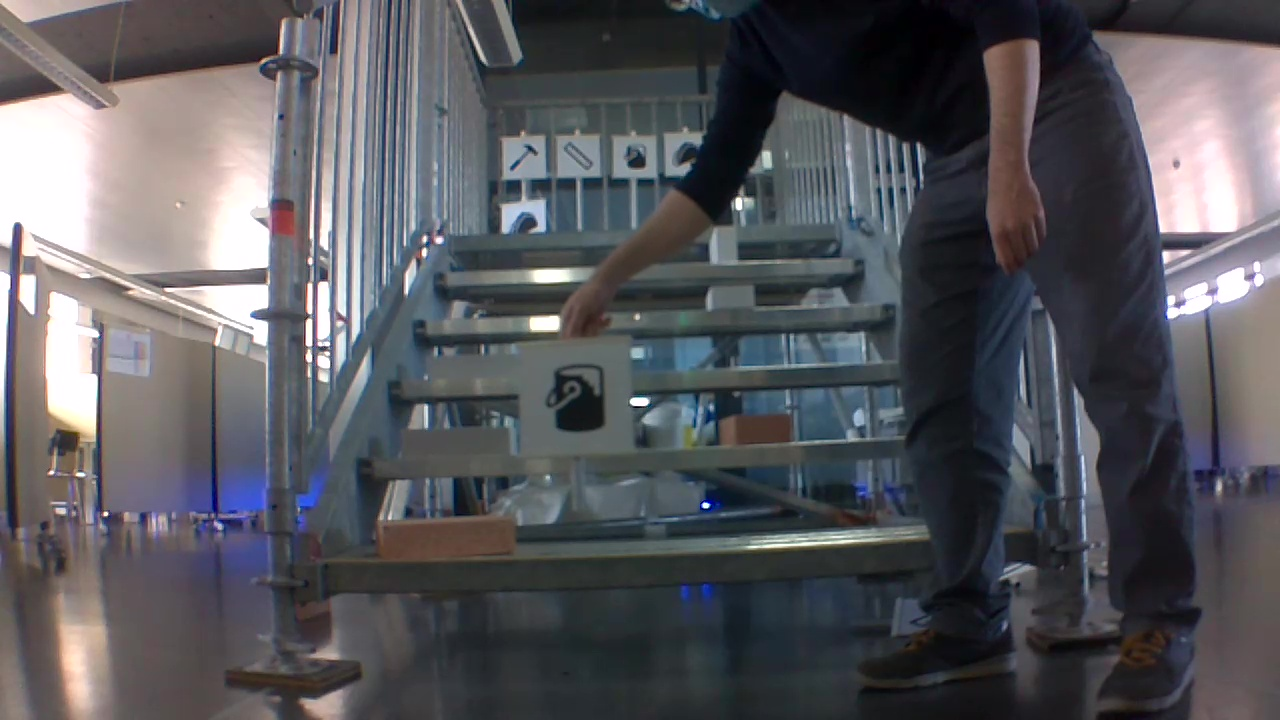brick: (379, 514, 512, 558), (401, 426, 513, 456), (719, 413, 791, 445), (427, 353, 514, 379), (705, 283, 753, 309), (710, 228, 736, 263)
bucket: (540, 356, 613, 436), (618, 142, 650, 170)
edge: (326, 531, 1046, 594)
hammer: (503, 139, 541, 174)
ruler: (559, 139, 594, 171)
taco: (667, 140, 697, 169), (505, 209, 538, 233)
